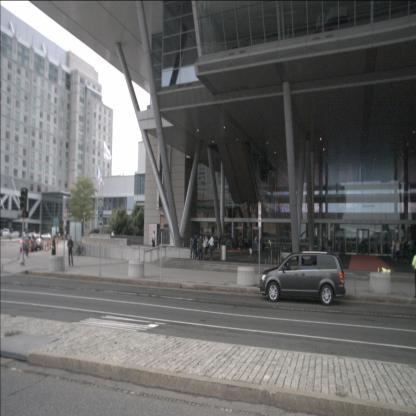human-pedestrian-adult: (67, 235, 74, 267), (207, 234, 214, 262), (412, 252, 416, 298), (23, 233, 30, 258), (197, 233, 203, 261), (192, 233, 198, 260), (51, 234, 56, 263), (253, 235, 258, 262), (204, 233, 209, 260), (360, 238, 366, 256), (152, 230, 156, 257), (190, 233, 194, 259), (390, 237, 394, 262), (202, 235, 206, 260), (396, 239, 400, 262), (239, 236, 243, 258), (111, 229, 115, 248), (268, 239, 271, 261), (218, 234, 221, 249), (246, 236, 249, 251), (244, 236, 247, 250)
movable_object-trafficcone: (49, 237, 52, 249), (28, 243, 31, 254), (44, 238, 46, 252), (47, 238, 49, 251)
vehicle-car: (260, 251, 346, 306), (20, 234, 38, 252), (32, 234, 44, 250), (41, 232, 52, 240), (10, 230, 19, 238), (3, 228, 10, 237)
